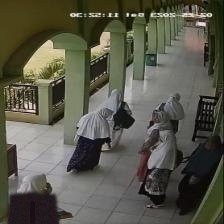Cadar_Niqab: (7, 172, 58, 224)
